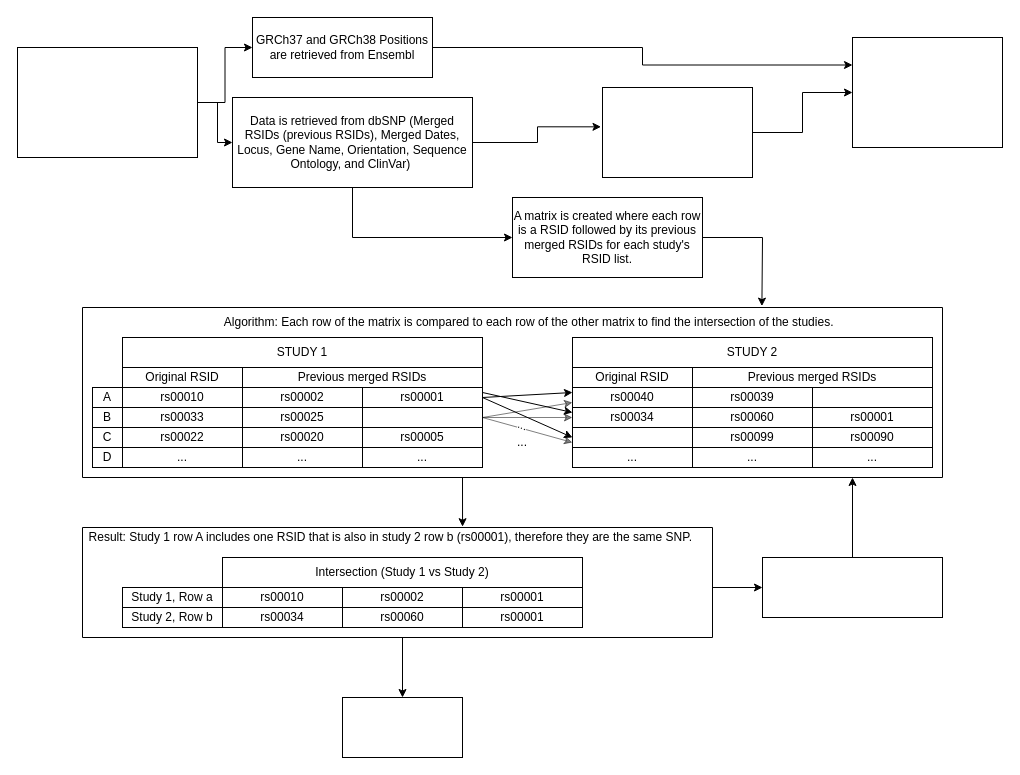
This 1020x775 diagram has some shape labels left out. The shapes that lost their labels are listed below. From the top down, each one's centre as x and y in pixels, then its label:
At pixel 107 102: "Input RSID lists (CSVs). Each list represents a study (GWAS)".
At pixel 927 92: "Data retrieved from dbSNP and Ensemble are exported to CSV files.".
At pixel 677 132: "Using Locus names from dbSNP, Gene length is retrieved from Ensembl".
At pixel 422 417: "rs00003".
At pixel 632 437: "rs00111".
At pixel 852 587: "Repeat for each study pair.".
At pixel 402 727: "Intersections exported to CSV files".
